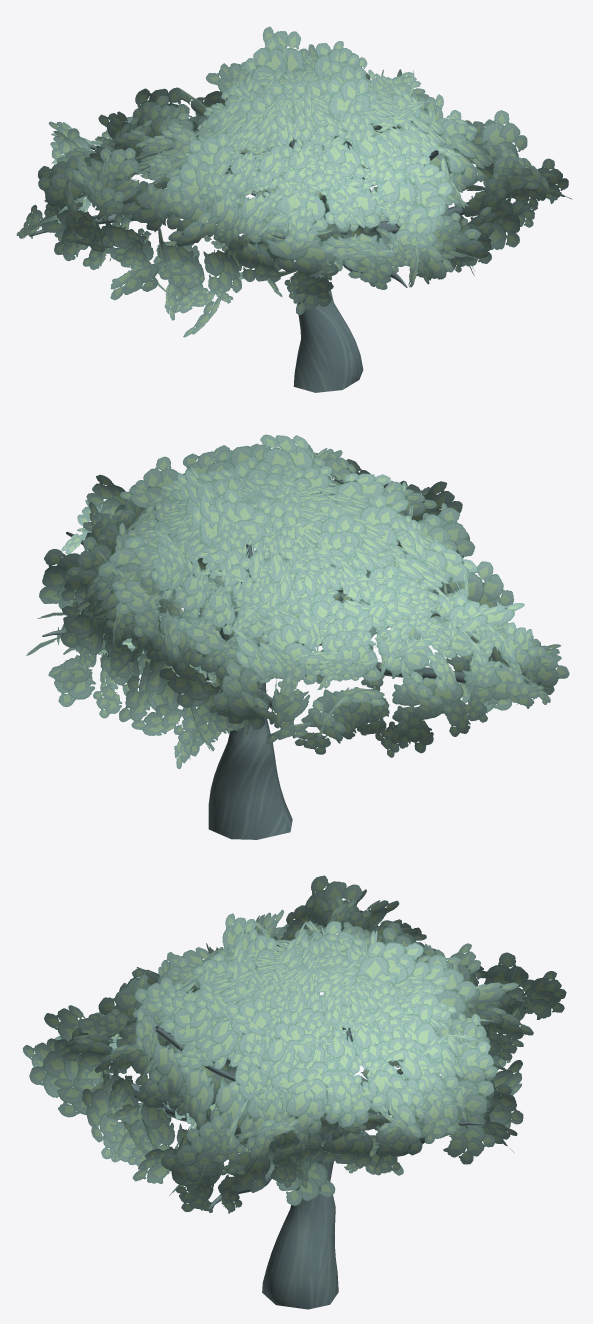
File: Siestania.fbx
3 renders of one model, top to bottom at view 1: azimuth 30°, elevation 25°; view 2: azimuth 150°, elevation 25°; view 3: azimuth 270°, elevation 25°, orthographic. The views are drawn at different scales.
Visible parts, largest first — view 1: Siestania_LOD0; view 2: Siestania_LOD0; view 3: Siestania_LOD0.
Part boxes in pixels (bbox=[...]): Siestania_LOD0: bbox=[16, 26, 572, 392]; Siestania_LOD0: bbox=[26, 434, 569, 839]; Siestania_LOD0: bbox=[22, 875, 566, 1309].
Size of what is drawn, in the model's own units: 7.91 by 5.16 by 7.13.
